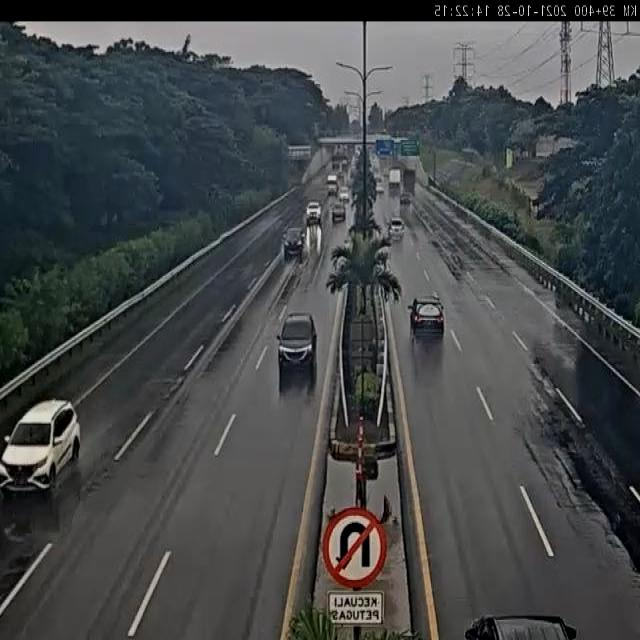Car: (0, 398, 82, 494), (463, 612, 578, 640), (276, 311, 319, 375), (409, 296, 446, 342), (283, 227, 305, 259), (388, 218, 405, 240), (306, 201, 322, 223), (332, 202, 346, 222), (400, 192, 412, 207), (339, 188, 349, 204), (375, 182, 384, 194), (337, 170, 345, 182)
Truck: (402, 167, 416, 190), (326, 172, 338, 196), (388, 168, 401, 186), (332, 155, 341, 169)
